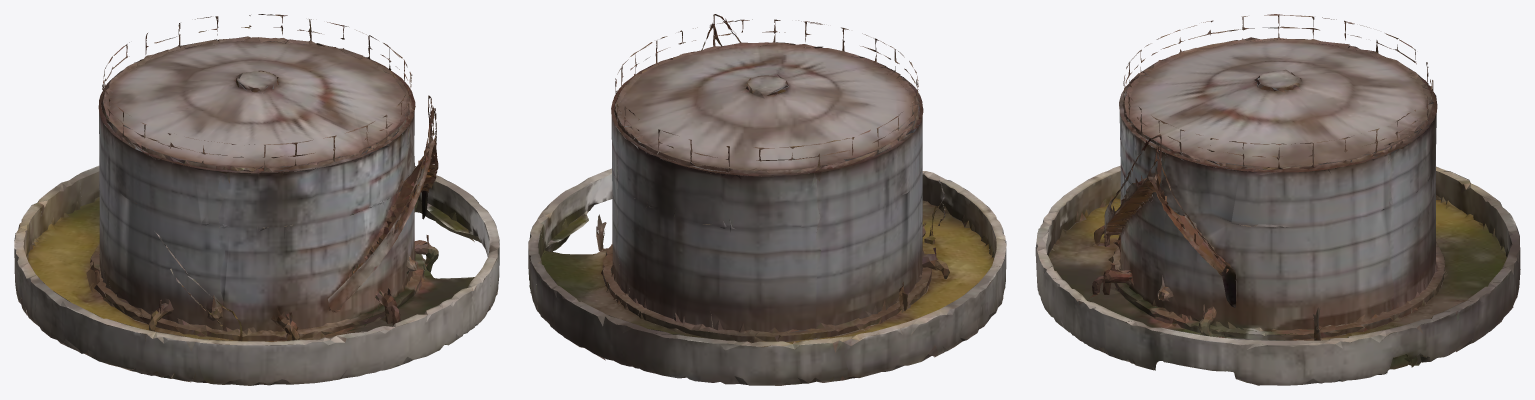
The model's file is building_oil_tank.glb.
3 views of the same model, side by side, from view 1: azimuth 30°, elevation 25°; view 2: azimuth 150°, elevation 25°; view 3: azimuth 270°, elevation 25° (orthographic).
Visible parts, largest first — view 1: building_oil_tank; view 2: building_oil_tank; view 3: building_oil_tank.
Boxes of the visible parts, x1,y1,x2,y2 form: building_oil_tank: (14,14,499,385); building_oil_tank: (528,14,1006,385); building_oil_tank: (1035,14,1520,385).
Bounding box in the file's own units: 25 × 11.79 × 24.99.
Materials: 1 (1 with a texture image).
